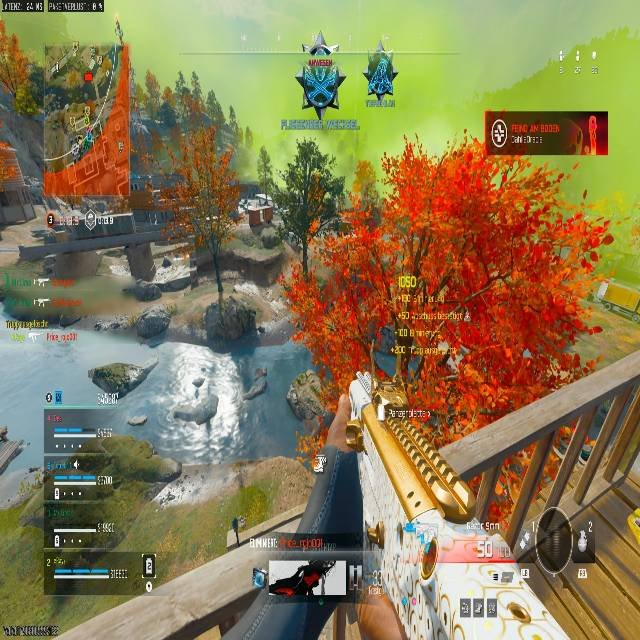head: (308, 34, 330, 59)
player: (296, 35, 343, 127), (365, 45, 396, 104)
